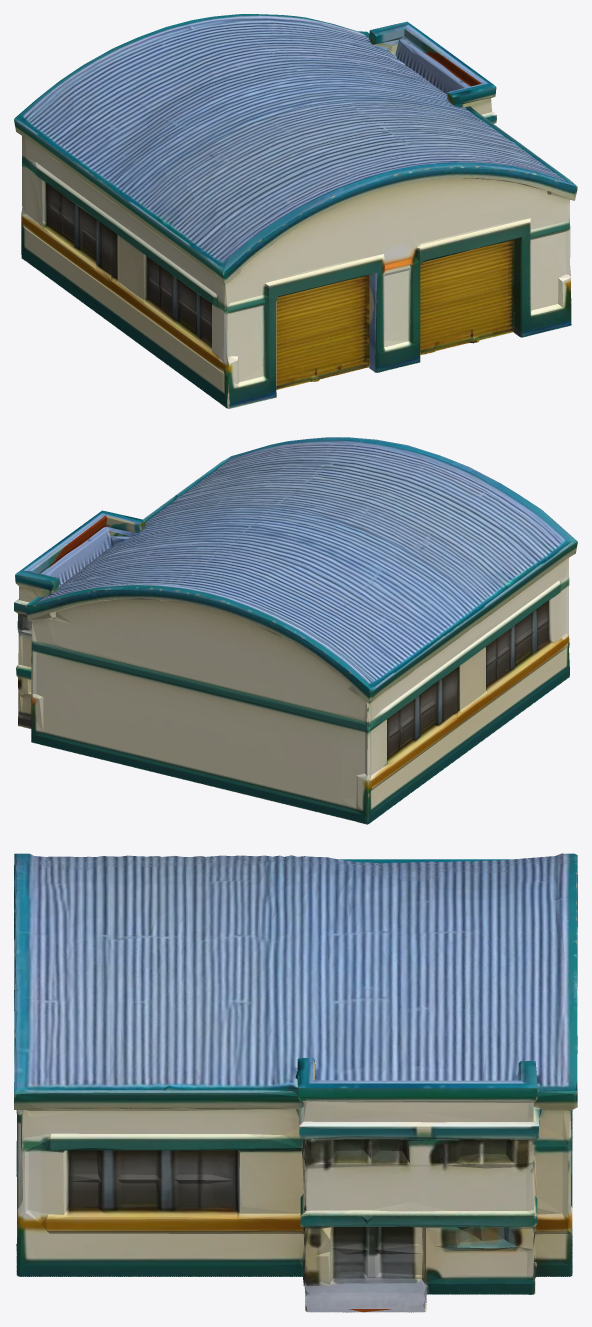
The model's file is depot.glb.
The picture shows the model from 3 angles, top to bottom: view 1: azimuth 30°, elevation 25°; view 2: azimuth 150°, elevation 25°; view 3: azimuth 270°, elevation 25°; orthographic projection. The views are drawn at different scales.
Visible parts, largest first — view 1: figure; view 2: figure; view 3: figure.
Boxes of the visible parts, x1=… form: figure: x1=14, y1=14, x2=577, y2=408; figure: x1=14, y1=437, x2=577, y2=824; figure: x1=14, y1=853, x2=577, y2=1312.
Bounding box in the file's own units: 2.18 × 1 × 1.96.
Materials: 1 (1 with a texture image).
